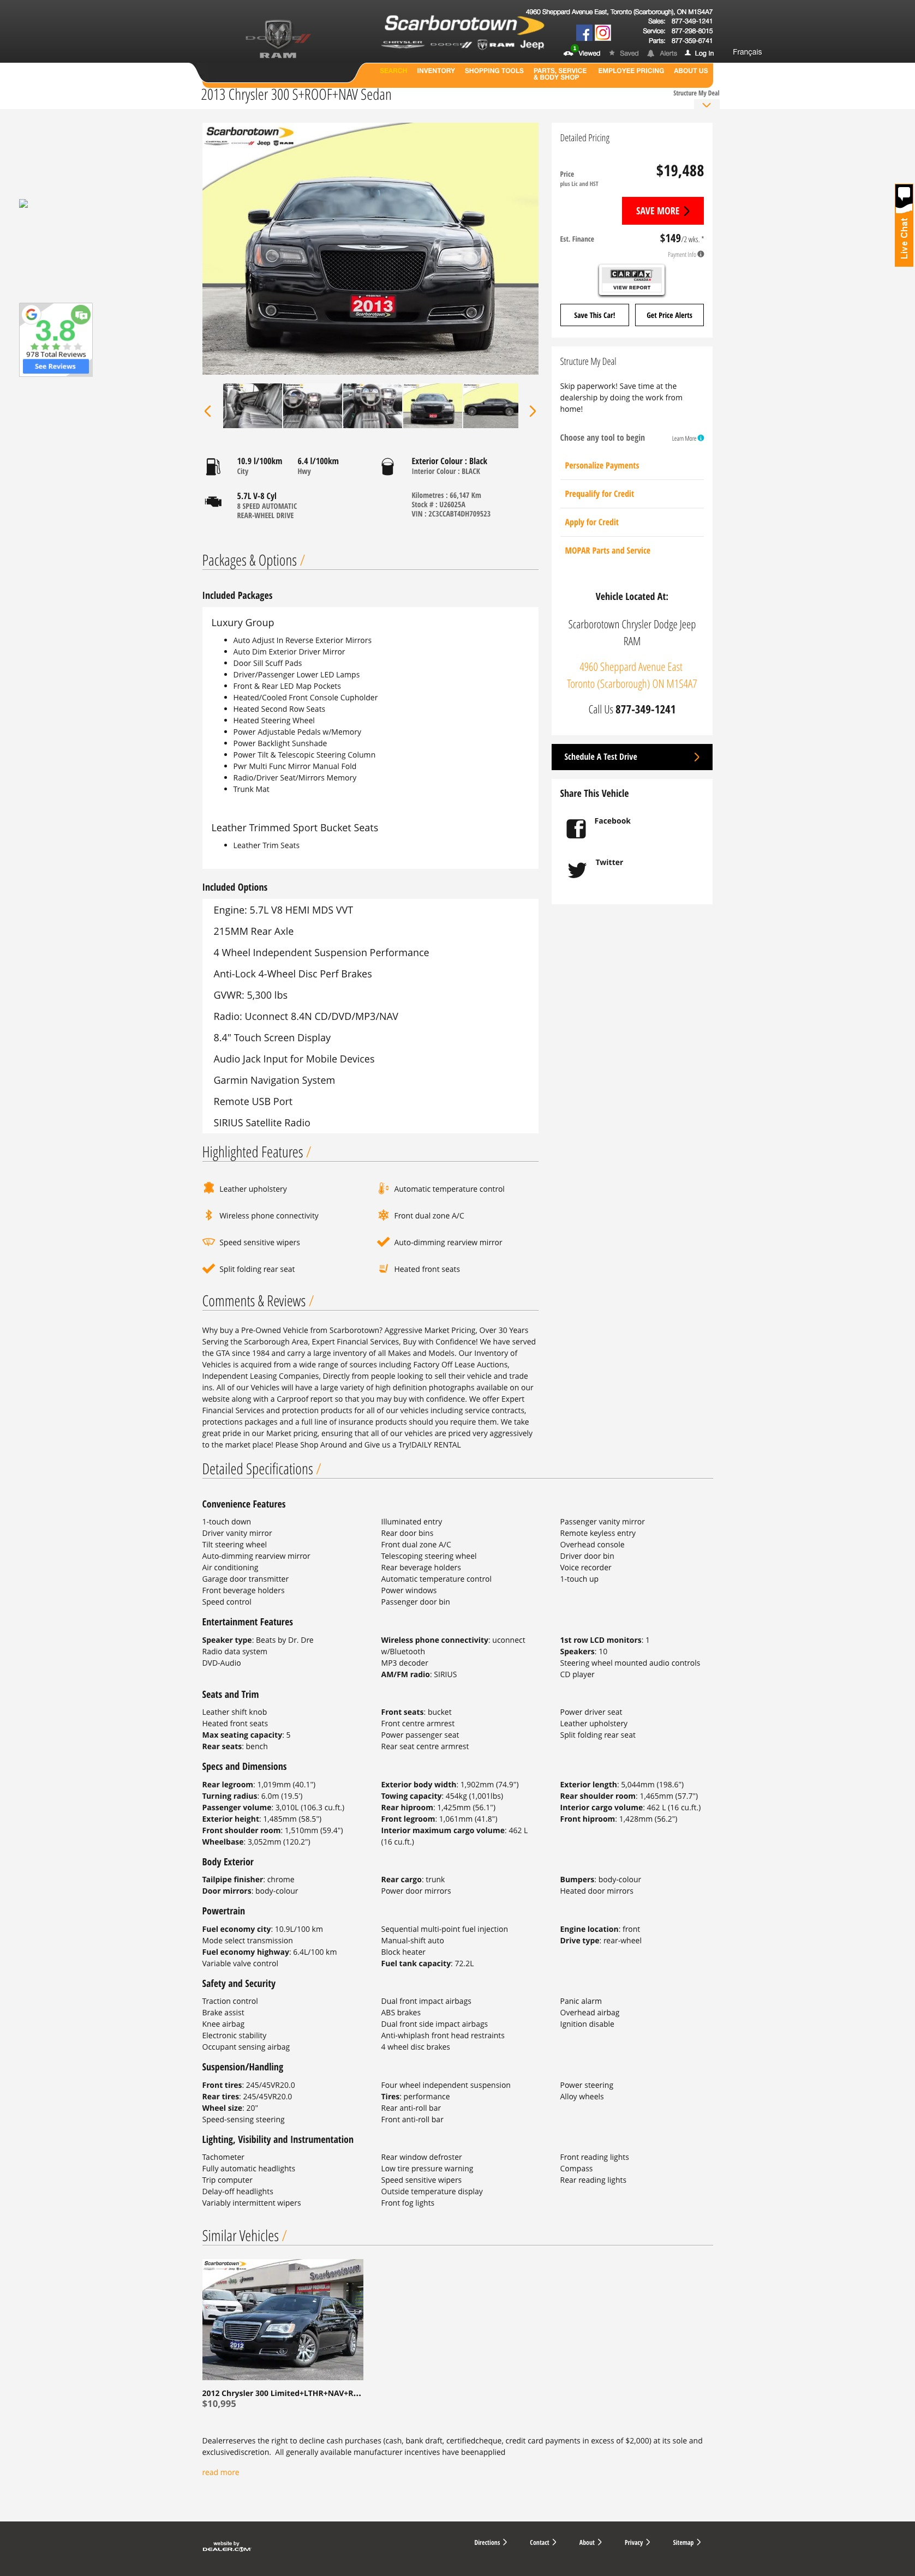car: (529, 406, 537, 417)
